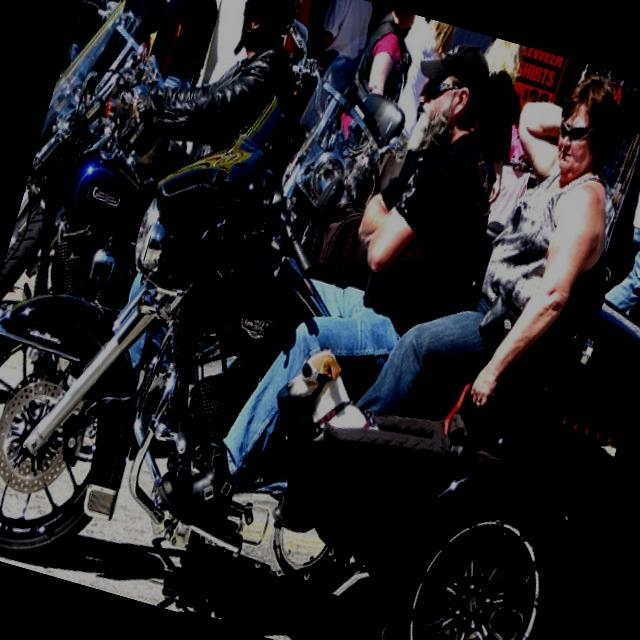Vehicle: (0, 32, 640, 640), (0, 0, 223, 353), (270, 22, 430, 254)
